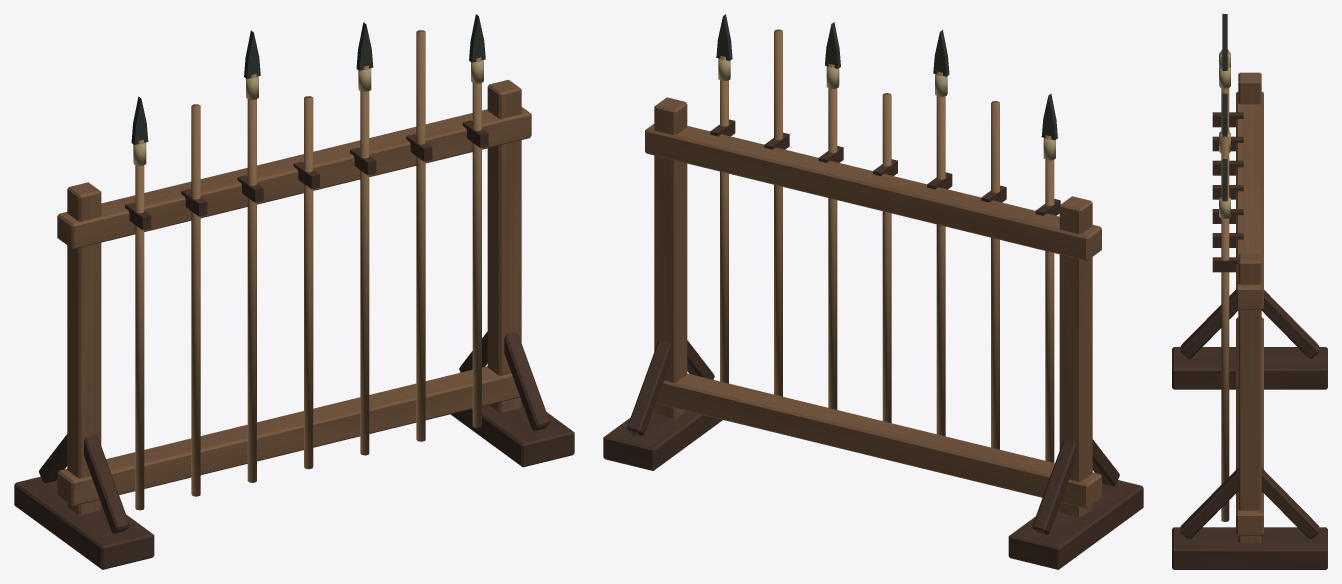
File: staff_rack.glb
The picture shows the model from 3 angles, left to right: view 1: azimuth 30°, elevation 25°; view 2: azimuth 150°, elevation 25°; view 3: azimuth 270°, elevation 25°; orthographic projection. The views are drawn at different scales.
Parts seen in each view (by area): view 1: Training_CarvedWood, Training_PracticeWood, Training_Timber, Training_Iron, Training_Rope; view 2: Training_CarvedWood, Training_PracticeWood, Training_Timber, Training_Iron, Training_Rope; view 3: Training_Timber, Training_CarvedWood, Training_PracticeWood, Training_Iron, Training_Rope.
Boxes of the visible parts, x1,y1,x2,y2 form: Training_CarvedWood: [57, 79, 531, 515]; Training_PracticeWood: [135, 30, 481, 510]; Training_Timber: [14, 120, 574, 569]; Training_Iron: [131, 14, 485, 144]; Training_Rope: [133, 60, 483, 165]; Training_CarvedWood: [645, 97, 1101, 517]; Training_PracticeWood: [720, 29, 1054, 462]; Training_Timber: [603, 119, 1143, 569]; Training_Iron: [716, 14, 1057, 140]; Training_Rope: [718, 58, 1055, 160]; Training_Timber: [1172, 112, 1327, 569]; Training_CarvedWood: [1236, 72, 1263, 542]; Training_PracticeWood: [1221, 49, 1229, 521]; Training_Iron: [1222, 14, 1227, 201]; Training_Rope: [1219, 52, 1230, 219].
Size of the model in its own units: 3.09 by 2.95 by 1.
5 materials, 4 textured.
